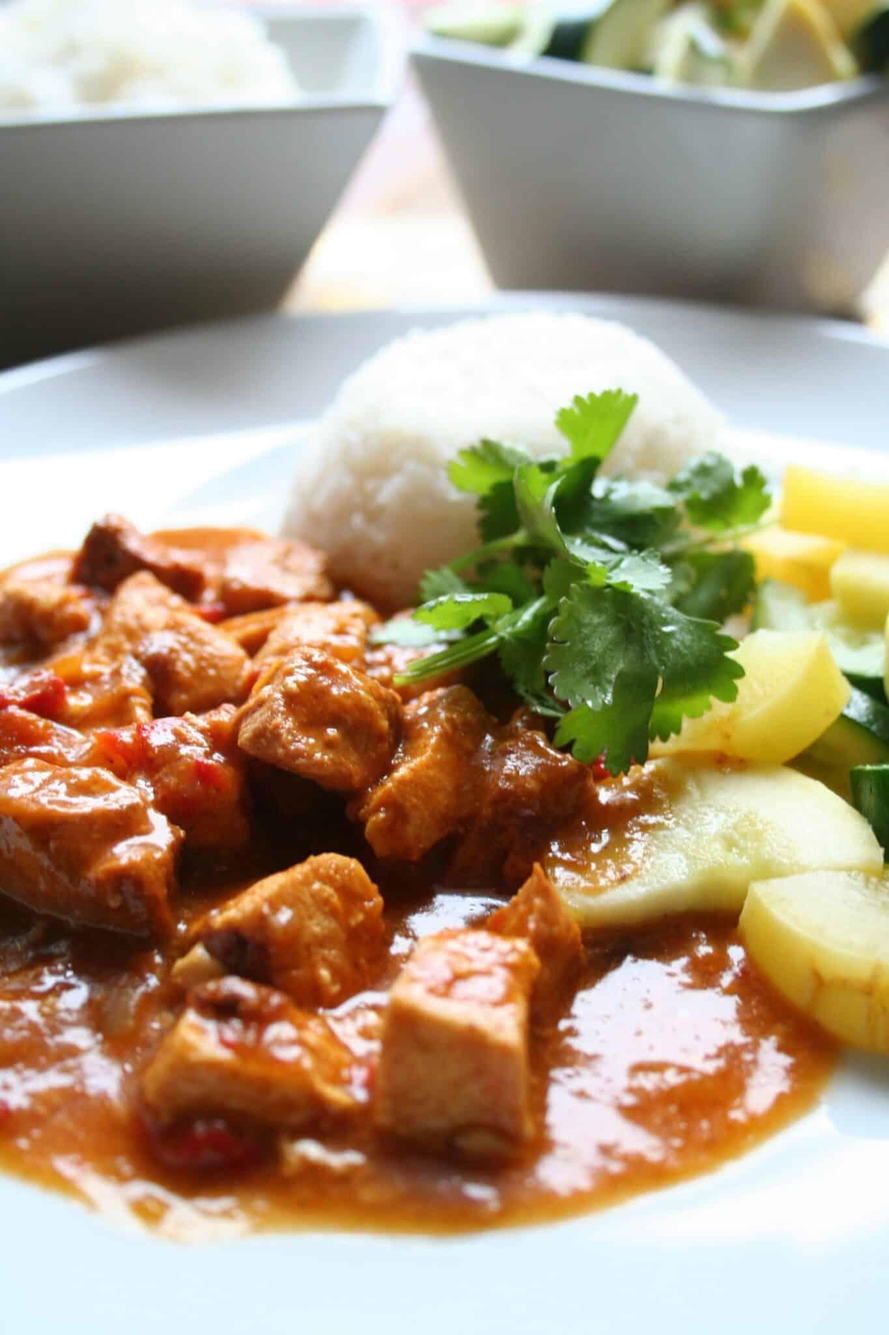chicken: (0, 566, 453, 1186), (326, 781, 746, 1206)
